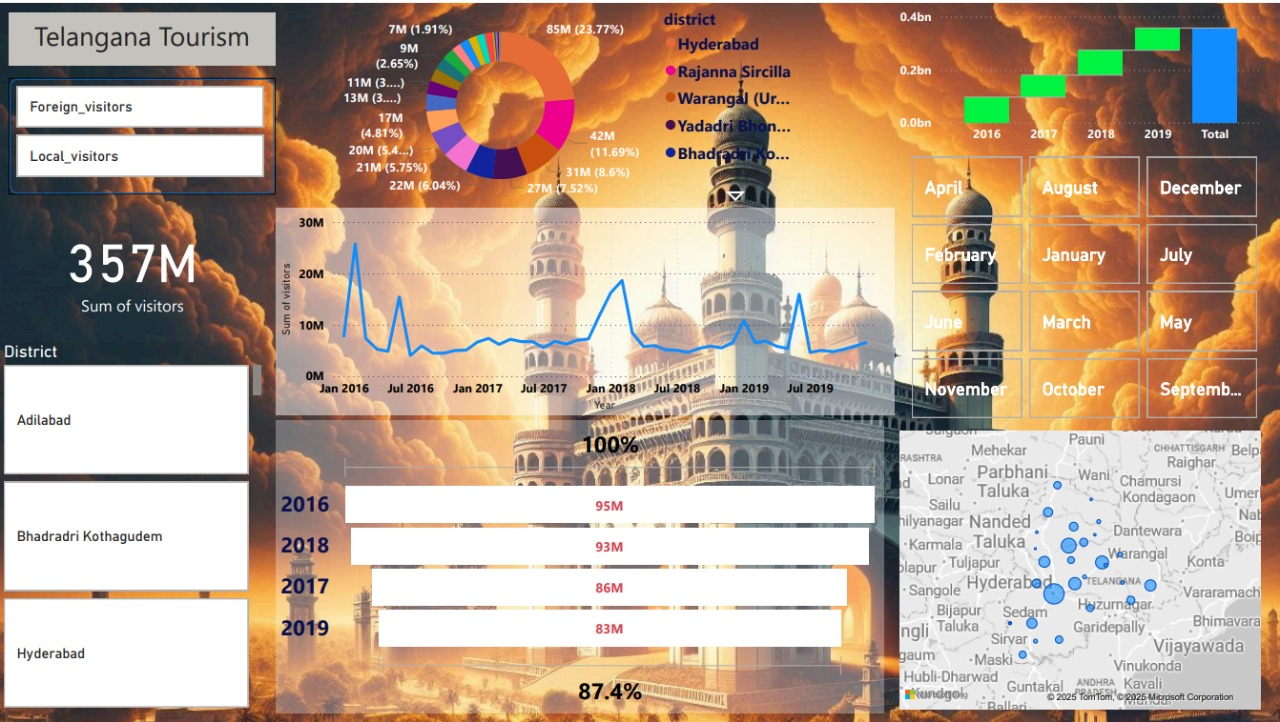

The dashboard page shown, as its layout file describes it:
{"tool":"powerbi","page":{"name":"Page 1","canvas":[1280,720],"ordinal":0},"visuals":[{"type":"textbox","box":[9.6,9.6,270.3,53.5],"z":0},{"type":"map","fields":{"Category":["Sheet1.district"],"Size":["Sum(Sheet1.visitors)"]},"box":[905.7,429.5,374.6,290.9],"z":1000},{"type":"card","fields":{"Values":["Sum(Sheet1.visitors)"]},"box":[0,193.5,270.3,150.9],"z":2000},{"type":"shape","box":[9.6,75.5,270.3,119.4],"z":3000},{"type":"advancedSlicerVisual","fields":{"Values":["Sheet1.month"]},"box":[905.7,152.3,362.3,277.2],"z":4000},{"type":"funnel","fields":{"Y":["Sum(Sheet1.visitors)"],"Category":["Sheet1.year"]},"box":[279.9,424,614.8,296.4],"z":5000},{"type":"advancedSlicerVisual","fields":{"Values":["Sheet1.Type"]},"box":[13.7,79.6,259.3,102.9],"z":6000},{"type":"advancedSlicerVisual","title":"District","fields":{"Values":["Sheet1.district"]},"box":[0,344.4,270.3,376],"z":7000},{"type":"lineChart","fields":{"Category":["Sheet1.date.Variation.Date Hierarchy.Year","Sheet1.date.Variation.Date Hierarchy.Quarter","Sheet1.date.Variation.Date Hierarchy.Month","Sheet1.date.Variation.Date Hierarchy.Day"],"Y":["Sum(Sheet1.visitors)"]},"box":[279.9,208.6,625.7,209.9],"z":8000},{"type":"waterfallChart","fields":{"Category":["Sheet1.date.Variation.Date Hierarchy.Year","Sheet1.date.Variation.Date Hierarchy.Month","Sheet1.Type","Sheet1.district"],"Y":["Sum(Sheet1.visitors)"]},"box":[905.7,0,374.6,152.3],"z":9000},{"type":"donutChart","fields":{"Category":["Sheet1.district"],"Y":["Sum(Sheet1.visitors)"]},"box":[349.9,0,483,208.6],"z":10000}]}

Visuals, with their boxes in screenshot pixels (x1, y1, x2, y2), scaled from the page's 1280x720 canvas onto the 1280x722 screenshot:
textbox: 10:10:280:63
map - Sheet1.district x Sum(Sheet1.visitors): 906:431:1279:721
card - Sum(Sheet1.visitors): 0:194:270:345
shape: 10:76:280:195
advancedSlicerVisual - Sheet1.month: 906:153:1268:431
funnel - Sum(Sheet1.visitors) x Sheet1.year: 280:425:895:721
advancedSlicerVisual - Sheet1.Type: 14:80:273:183
"District" advancedSlicerVisual: 0:345:270:721
lineChart - Sheet1.date.Variation.Date Hierarchy.Year x Sheet1.date.Variation.Date Hierarchy.Quarter: 280:209:906:420
waterfallChart - Sheet1.date.Variation.Date Hierarchy.Year x Sheet1.date.Variation.Date Hierarchy.Month: 906:0:1279:153
donutChart - Sheet1.district x Sum(Sheet1.visitors): 350:0:833:209
